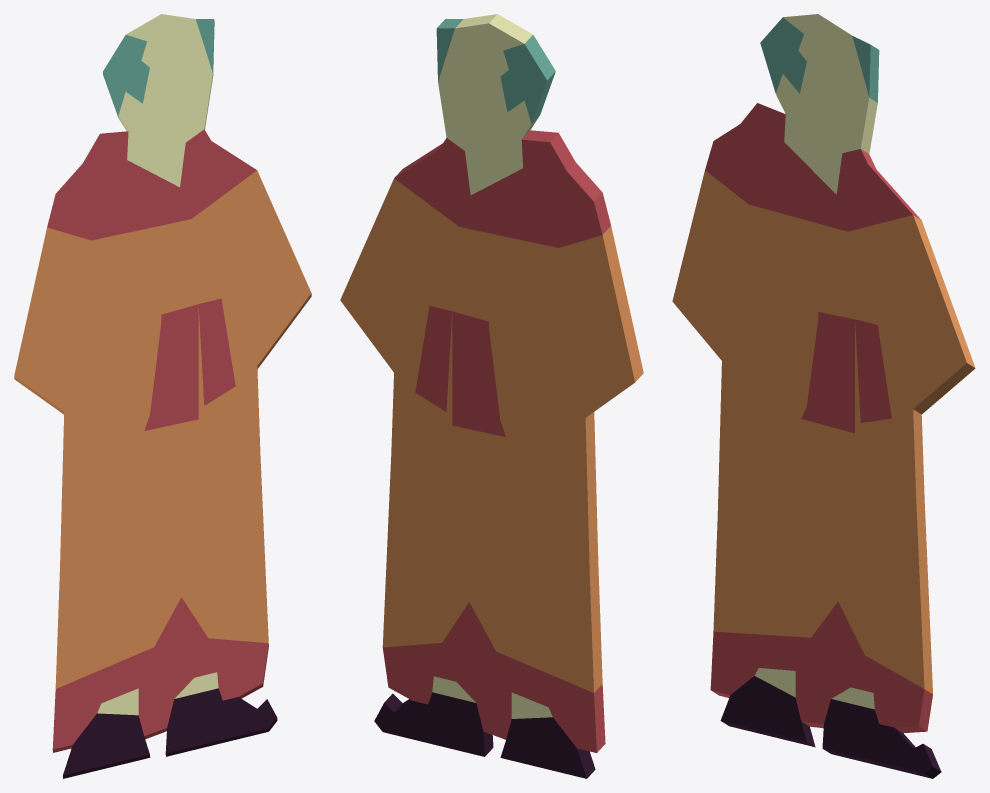
Rendered from Monk.glb.
The picture shows the model from 3 angles, left to right: view 1: azimuth 30°, elevation 25°; view 2: azimuth 150°, elevation 25°; view 3: azimuth 330°, elevation 25°; orthographic projection.
Parts seen in each view (by area): view 1: Plane; view 2: Plane; view 3: Plane.
Part boxes in pixels (x1,y1,x2,y2): Plane: (14, 14, 311, 778); Plane: (340, 14, 643, 778); Plane: (672, 14, 975, 778).
Size of the model in its own units: 1.87 by 4.42 by 0.0451.
